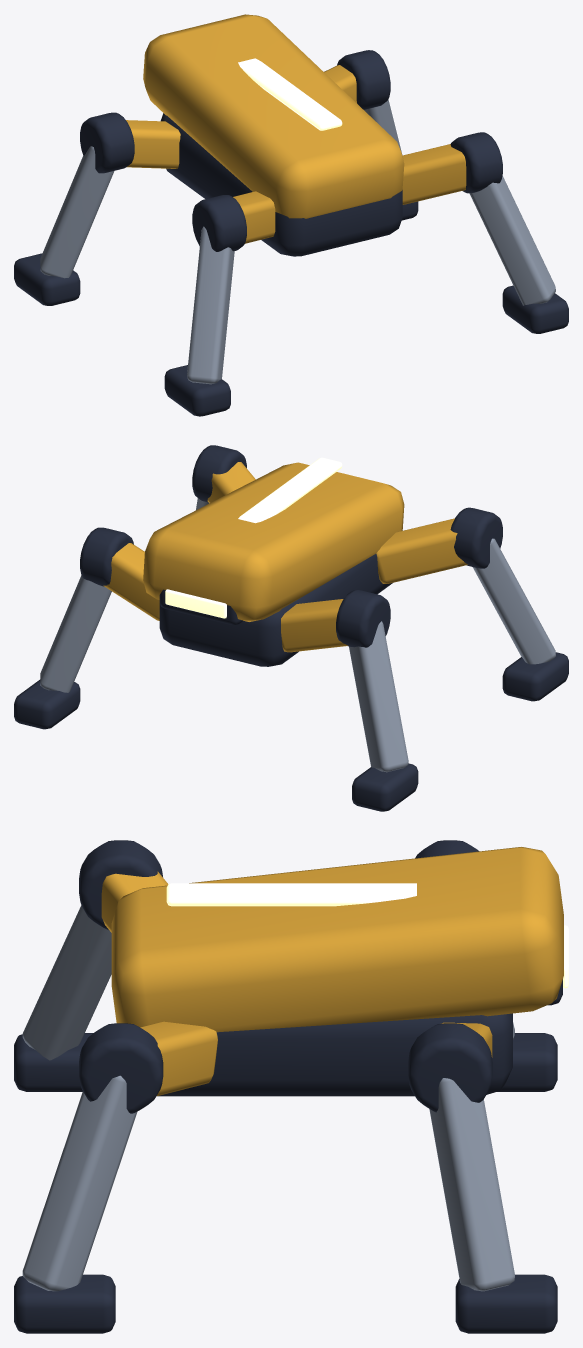
Rendered from runner.glb.
3 views of the same model, one above another, from view 1: azimuth 30°, elevation 25°; view 2: azimuth 150°, elevation 25°; view 3: azimuth 270°, elevation 25° (orthographic). The views are drawn at different scales.
Visible parts, largest first — view 1: Racing shell, Low drive train, Lower sprint leg, Lower sprint leg.002, Lower sprint leg.001, Upper sprint leg.002, Leg joint.001, Leg joint, Dorsal stripe, Upper sprint leg.001, Grip pad, Grip pad.001 (+6 smaller); view 2: Racing shell, Low drive train, Lower sprint leg.001, Lower sprint leg.003, Lower sprint leg, Upper sprint leg, Upper sprint leg.001, Leg joint.001, Grip pad.001, Leg joint, Grip pad.003, Grip pad (+7 smaller); view 3: Racing shell, Low drive train, Lower sprint leg.002, Lower sprint leg.003, Lower sprint leg, Dorsal stripe, Leg joint.002, Leg joint.003, Grip pad.003, Grip pad.002, Upper sprint leg.002, Leg joint (+4 smaller).
Boxes of the visible parts, x1=… form: Racing shell: x1=143, y1=14, x2=404, y2=218; Low drive train: x1=160, y1=113, x2=402, y2=256; Lower sprint leg: x1=187, y1=226, x2=234, y2=384; Lower sprint leg.002: x1=469, y1=176, x2=555, y2=305; Lower sprint leg.001: x1=40, y1=146, x2=114, y2=278; Upper sprint leg.002: x1=402, y1=144, x2=466, y2=204; Leg joint.001: x1=80, y1=112, x2=134, y2=173; Leg joint: x1=192, y1=195, x2=246, y2=251; Dorsal stripe: x1=238, y1=58, x2=342, y2=130; Upper sprint leg.001: x1=126, y1=120, x2=180, y2=168; Grip pad: x1=164, y1=365, x2=230, y2=416; Grip pad.001: x1=14, y1=253, x2=80, y2=305; Racing shell: x1=143, y1=462, x2=404, y2=621; Low drive train: x1=159, y1=554, x2=392, y2=666; Lower sprint leg.001: x1=349, y1=621, x2=408, y2=772; Lower sprint leg.003: x1=40, y1=575, x2=111, y2=692; Lower sprint leg: x1=472, y1=538, x2=555, y2=664; Upper sprint leg: x1=376, y1=518, x2=467, y2=583; Upper sprint leg.001: x1=281, y1=599, x2=347, y2=652; Leg joint.001: x1=336, y1=590, x2=390, y2=647; Grip pad.001: x1=352, y1=763, x2=418, y2=811; Leg joint: x1=450, y1=507, x2=502, y2=568; Grip pad.003: x1=14, y1=679, x2=80, y2=729; Grip pad: x1=502, y1=652, x2=568, y2=701; Racing shell: x1=111, y1=847, x2=563, y2=1032; Low drive train: x1=158, y1=1013, x2=512, y2=1096; Lower sprint leg.002: x1=22, y1=1075, x2=137, y2=1291; Lower sprint leg.003: x1=429, y1=1078, x2=514, y2=1291; Lower sprint leg: x1=22, y1=905, x2=111, y2=1060; Dorsal stripe: x1=166, y1=883, x2=416, y2=906; Leg joint.002: x1=79, y1=1023, x2=163, y2=1113; Leg joint.003: x1=408, y1=1023, x2=492, y2=1112; Grip pad.003: x1=455, y1=1274, x2=557, y2=1333; Grip pad.002: x1=14, y1=1274, x2=115, y2=1333; Upper sprint leg.002: x1=140, y1=1021, x2=217, y2=1096; Leg joint: x1=79, y1=840, x2=162, y2=930.
Size of the model in its own units: 1.47 by 0.8294 by 1.28.
